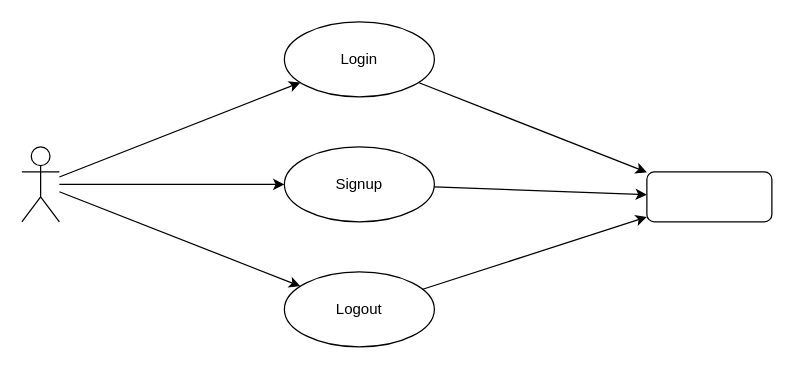
Image size: 794x369. Some labels were removed from this diagram. The shapes that lost their labels are listed below. From the top down, each one's centre as x and y in pixels, then its label:
At (40,184): "User".
At (709,196): "AuthBloc".
